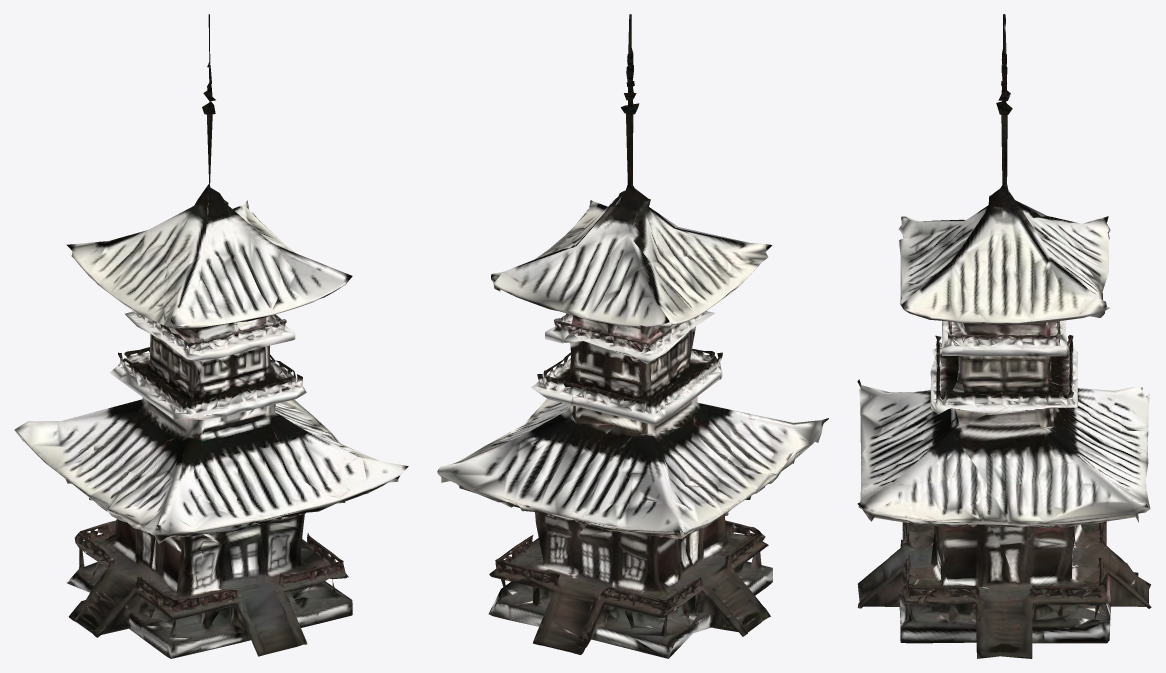
Rendered from pagoda.glb.
3 renders of one model, left to right at view 1: azimuth 30°, elevation 25°; view 2: azimuth 150°, elevation 25°; view 3: azimuth 270°, elevation 25°, orthographic.
Size of the model in its own units: 0.8649 by 1.9 by 0.8659.
Materials: 1 (1 with a texture image).
